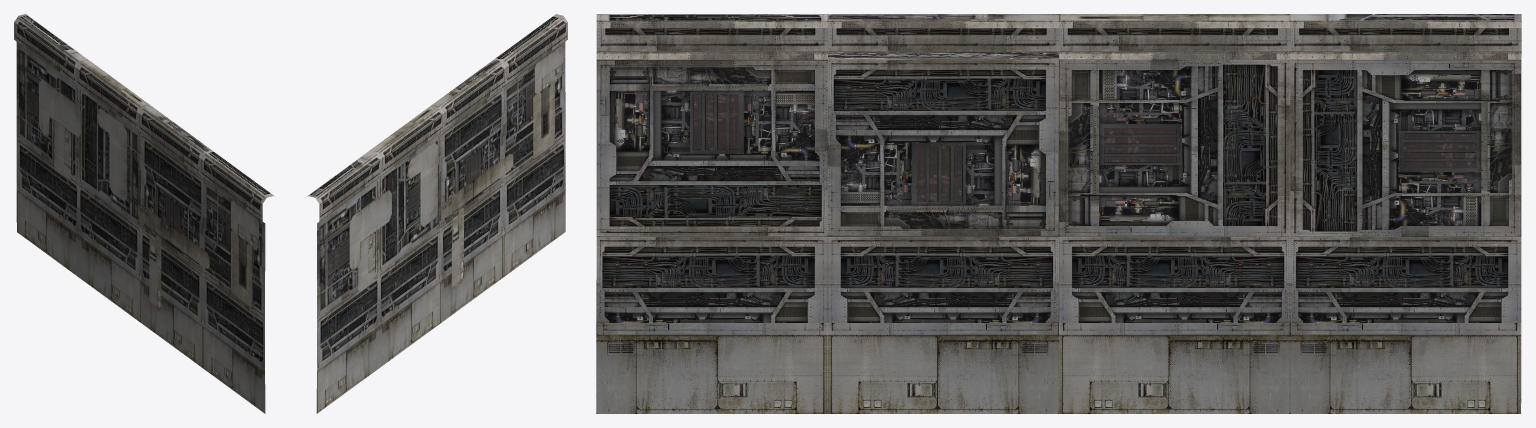
File: STR_BigRoofPiece_A.FBX
3 renders of one model, left to right at view 1: azimuth 30°, elevation 25°; view 2: azimuth 150°, elevation 25°; view 3: azimuth 270°, elevation 25°, orthographic. The views are drawn at different scales.
Visible parts, largest first — view 1: STR_BigRoofPiece_A; view 2: STR_BigRoofPiece_A; view 3: STR_BigRoofPiece_A.
Boxes of the visible parts, x1,y1,x2,y2 form: STR_BigRoofPiece_A: (14, 14, 274, 413); STR_BigRoofPiece_A: (305, 14, 567, 413); STR_BigRoofPiece_A: (596, 14, 1521, 413).
Bounding box in the file's own units: 79.42 × 958 × 2001.
1 material, 1 textured.
